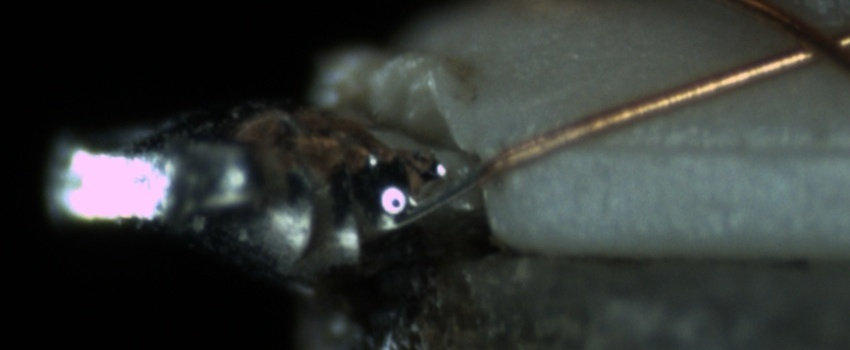CL: (760, 8, 849, 77)
DL: (561, 115, 846, 183)
TS: (381, 159, 492, 232)
